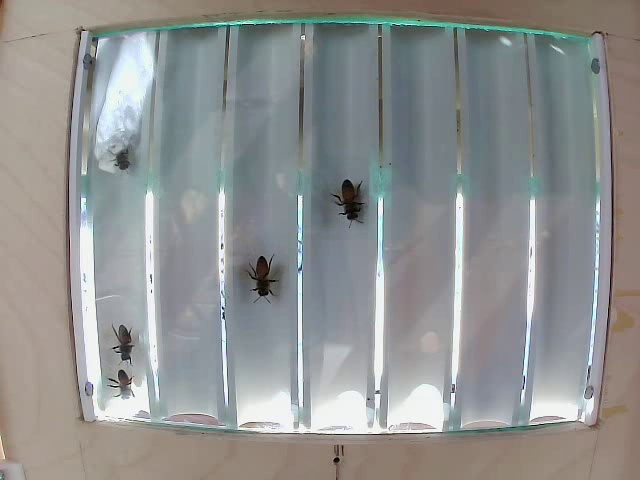bee: (329, 169, 372, 229), (105, 132, 157, 176), (249, 251, 280, 303), (103, 366, 141, 397), (106, 322, 138, 353)
